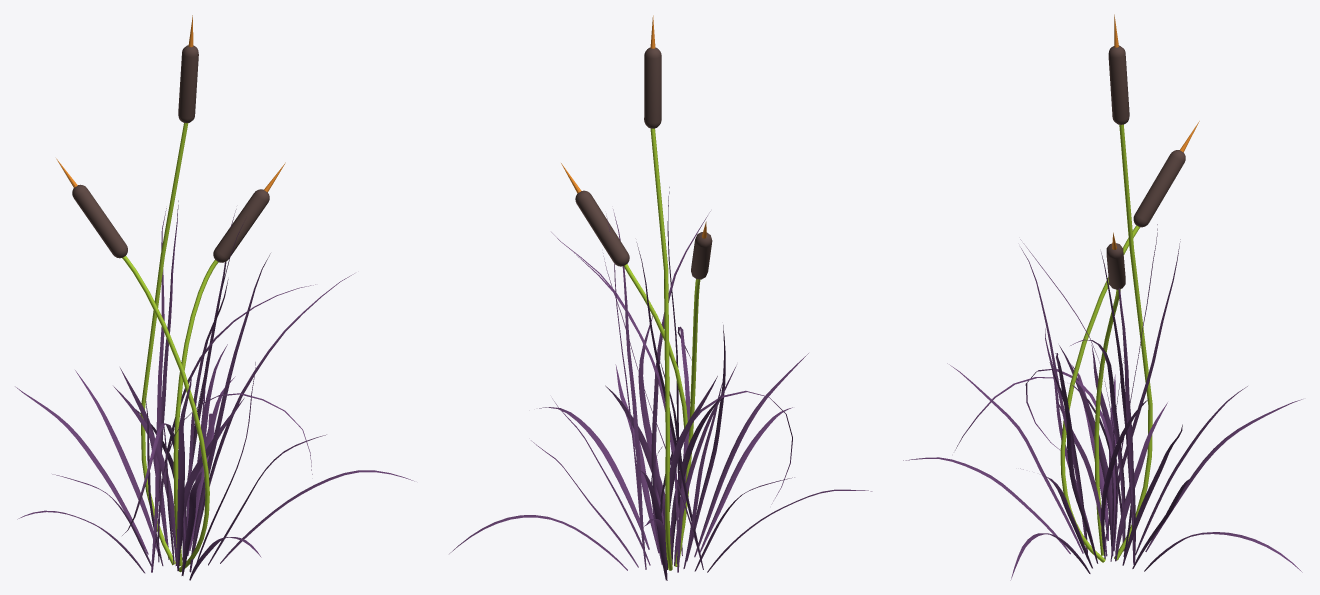
Rendered from Massette-normal.fbx.
3 views of the same model, side by side, from view 1: azimuth 30°, elevation 25°; view 2: azimuth 150°, elevation 25°; view 3: azimuth 270°, elevation 25° (orthographic).
Visible parts, largest first — view 1: Herbe, Extrusion_contrôlée_4, Extrusion_contrôlée_3, Capsule_3, Capsule_2, Extrusion_contrôlée_2; view 2: Herbe, Extrusion_contrôlée_4, Capsule_3, Extrusion_contrôlée_2, Extrusion_contrôlée_3, Capsule_2; view 3: Herbe, Extrusion_contrôlée_4, Capsule_2, Extrusion_contrôlée_3, Extrusion_contrôlée_2, Capsule_3.
Boxes of the visible parts, bbox=[...] form: Herbe: bbox=[15, 200, 414, 580]; Extrusion_contrôlée_4: bbox=[140, 15, 198, 565]; Extrusion_contrôlée_3: bbox=[122, 256, 209, 572]; Capsule_3: bbox=[213, 189, 269, 262]; Capsule_2: bbox=[72, 184, 127, 258]; Extrusion_contrôlée_2: bbox=[173, 260, 218, 565]; Herbe: bbox=[449, 187, 872, 580]; Extrusion_contrôlée_4: bbox=[644, 15, 672, 570]; Capsule_3: bbox=[575, 190, 629, 266]; Extrusion_contrôlée_2: bbox=[624, 264, 689, 560]; Extrusion_contrôlée_3: bbox=[674, 279, 700, 566]; Capsule_2: bbox=[691, 232, 712, 279]; Herbe: bbox=[903, 224, 1302, 580]; Extrusion_contrôlée_4: bbox=[1108, 14, 1152, 560]; Capsule_2: bbox=[1133, 150, 1185, 227]; Extrusion_contrôlée_3: bbox=[1060, 225, 1139, 562]; Extrusion_contrôlée_2: bbox=[1094, 289, 1120, 555]; Capsule_3: bbox=[1106, 243, 1125, 289].
Bounding box in the file's own units: 95.23 × 134 × 88.1.
